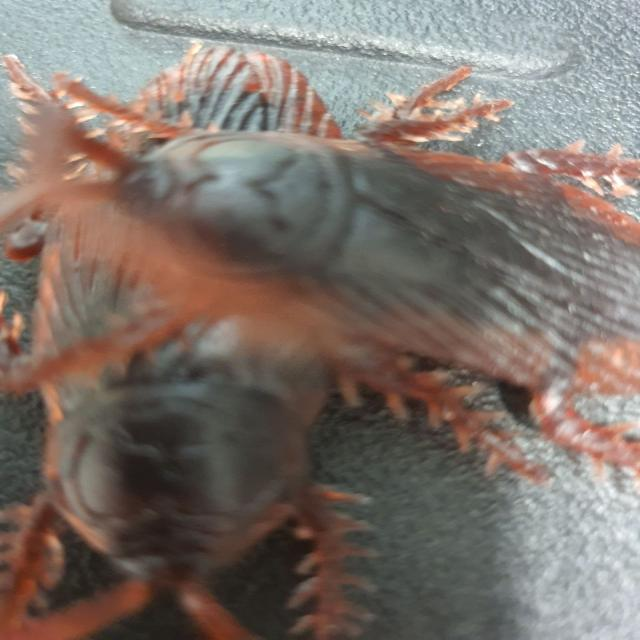Cockroach: (0, 46, 640, 456), (7, 15, 385, 640)
